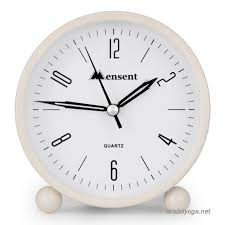alarm_clock: (12, 7, 217, 211), (17, 7, 217, 211), (12, 7, 210, 211), (17, 18, 217, 211)
